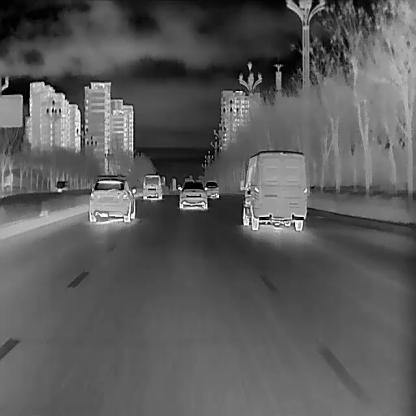car: (238, 150, 307, 231), (88, 173, 137, 222), (177, 180, 207, 209), (141, 172, 163, 199), (204, 180, 219, 198), (54, 180, 69, 194)
